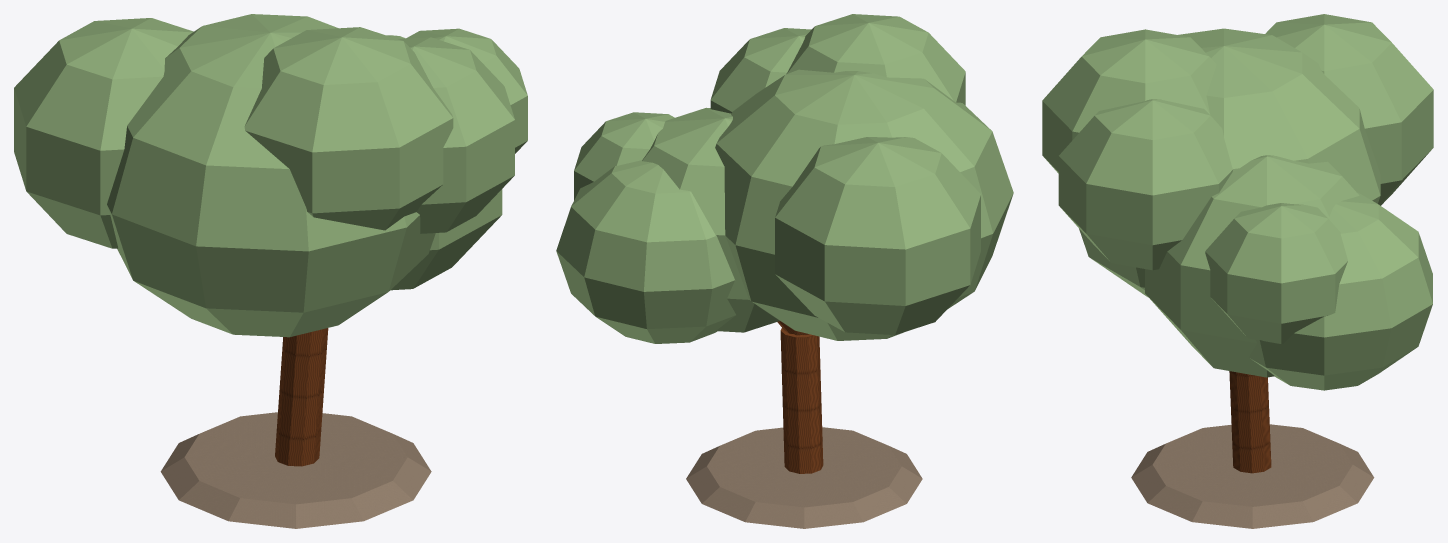
Rendered from olive-tree.glb.
3 views of the same model, side by side, from view 1: azimuth 30°, elevation 25°; view 2: azimuth 150°, elevation 25°; view 3: azimuth 270°, elevation 25° (orthographic). The views are drawn at different scales.
Parts seen in each view (by area): view 1: olive-tree-leaf, olive-tree-soil, olive-tree-oak; view 2: olive-tree-leaf, olive-tree-soil, olive-tree-oak; view 3: olive-tree-leaf, olive-tree-soil, olive-tree-oak.
Part boxes in pixels (x1=…): olive-tree-leaf: x1=14, y1=14, x2=527, y2=337; olive-tree-soil: x1=160, y1=412, x2=431, y2=528; olive-tree-oak: x1=275, y1=328, x2=328, y2=466; olive-tree-leaf: x1=556, y1=14, x2=1013, y2=343; olive-tree-soil: x1=686, y1=427, x2=922, y2=528; olive-tree-oak: x1=777, y1=321, x2=823, y2=473; olive-tree-leaf: x1=1042, y1=14, x2=1433, y2=390; olive-tree-soil: x1=1131, y1=424, x2=1374, y2=528; olive-tree-oak: x1=1229, y1=371, x2=1271, y2=473.
Bounding box in the file's own units: 3.4 × 3.34 × 2.74.
3 materials, 2 textured.
